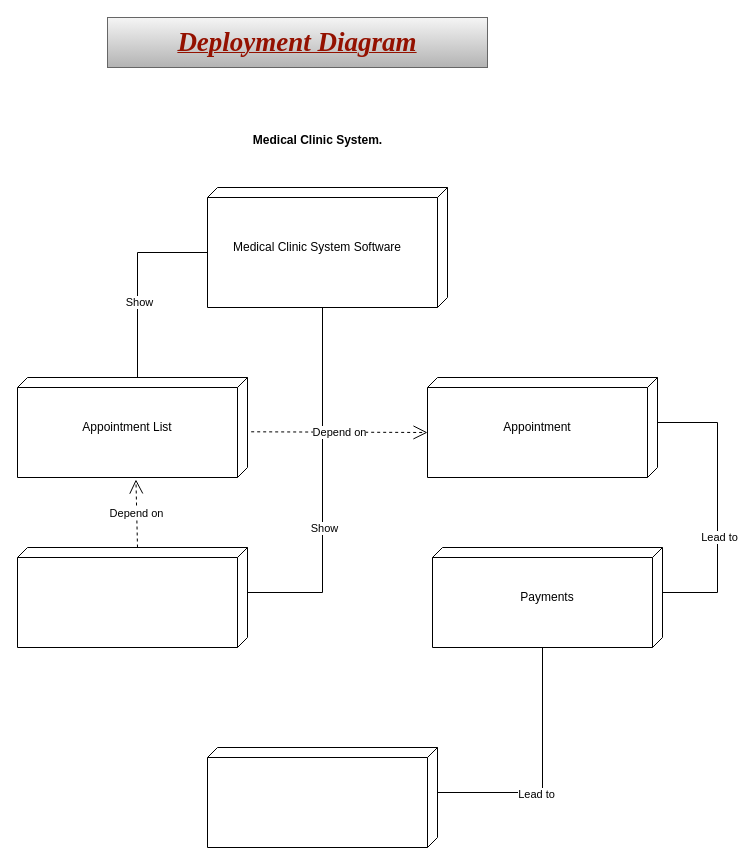
This 755x865 diagram has some shape labels left out. The box of each missing label's shape, as (x1, y1, x2, y2) in pixels:
Patient List: (16, 546, 248, 648)
Treatment: (206, 746, 438, 848)
